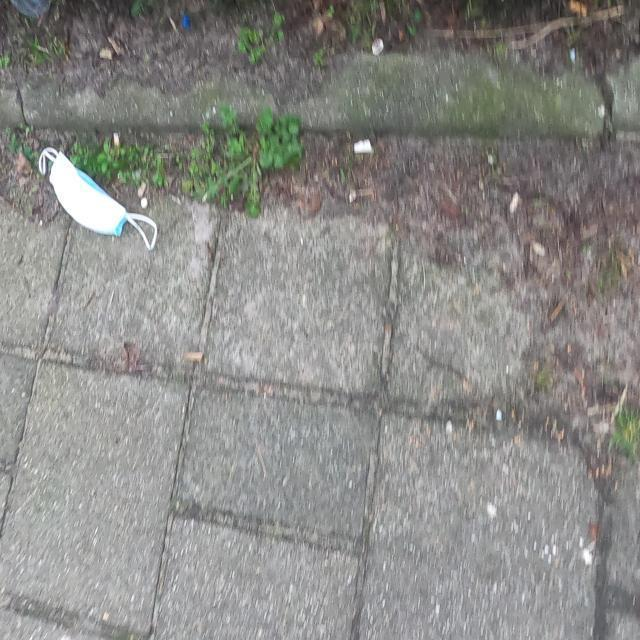Mask: (36, 144, 158, 252)
